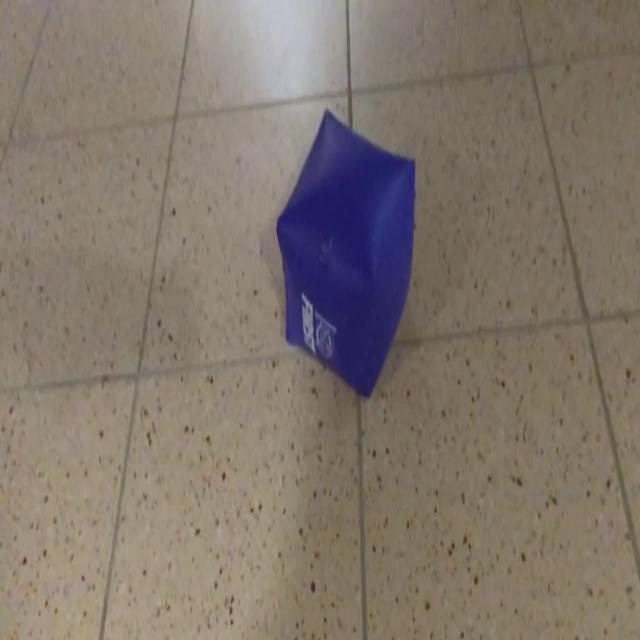frc_cube: (278, 110, 416, 399)
